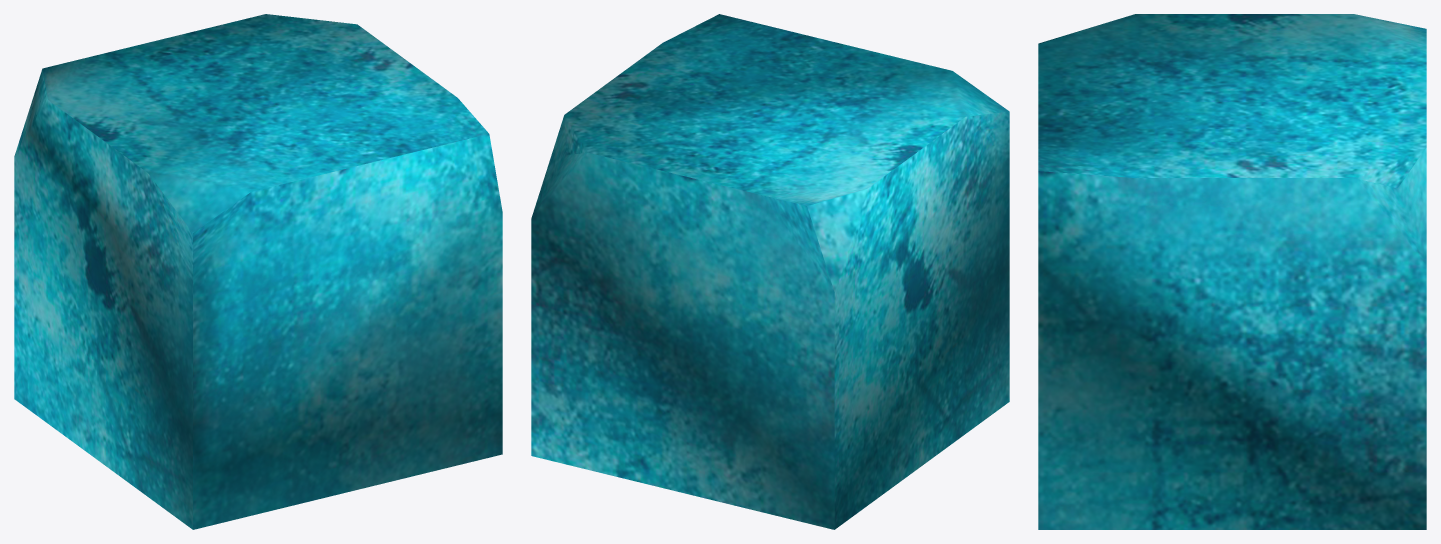
The model's file is cubo.obj.
3 views of the same model, side by side, from view 1: azimuth 30°, elevation 25°; view 2: azimuth 150°, elevation 25°; view 3: azimuth 270°, elevation 25° (orthographic). The views are drawn at different scales.
Parts seen in each view (by area): view 1: cube1; view 2: cube1; view 3: cube1.
Boxes of the visible parts, x1,y1,x2,y2 form: cube1: (14, 14, 502, 529); cube1: (531, 14, 1009, 529); cube1: (1038, 14, 1426, 529).
Bounding box in the file's own units: 2 × 2 × 2.
1 material, 1 textured.
